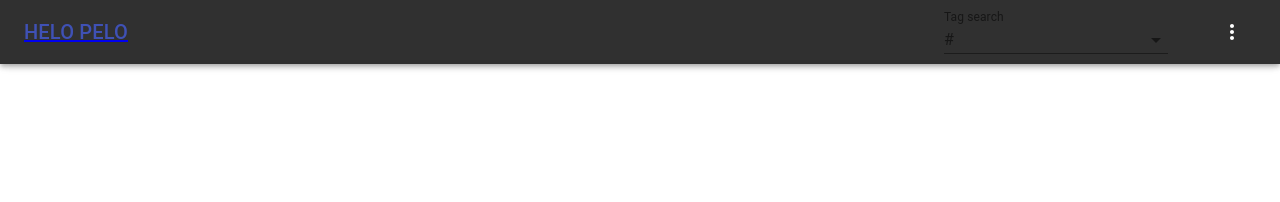
Test: <TopAppBar /> › should display user options when button is clicked
The width and height of the screenshot is (1280, 202).
Click the button named "User menu" at (1232, 32), box [1208, 8, 1256, 56]
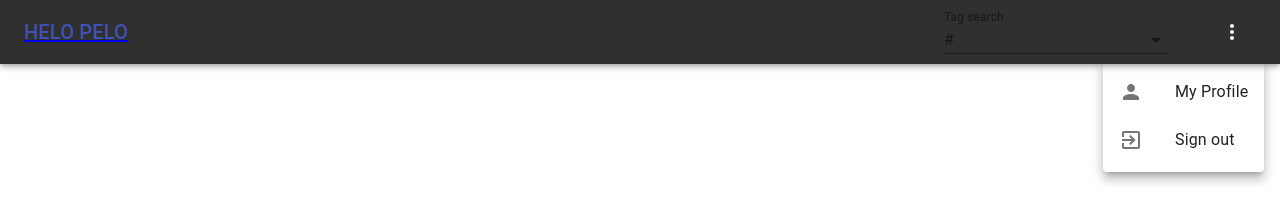
Check: the text "My Profile" is shown, box [1175, 80, 1248, 104]
Check: the text "Sign out" is shown, box [1175, 130, 1235, 149]
